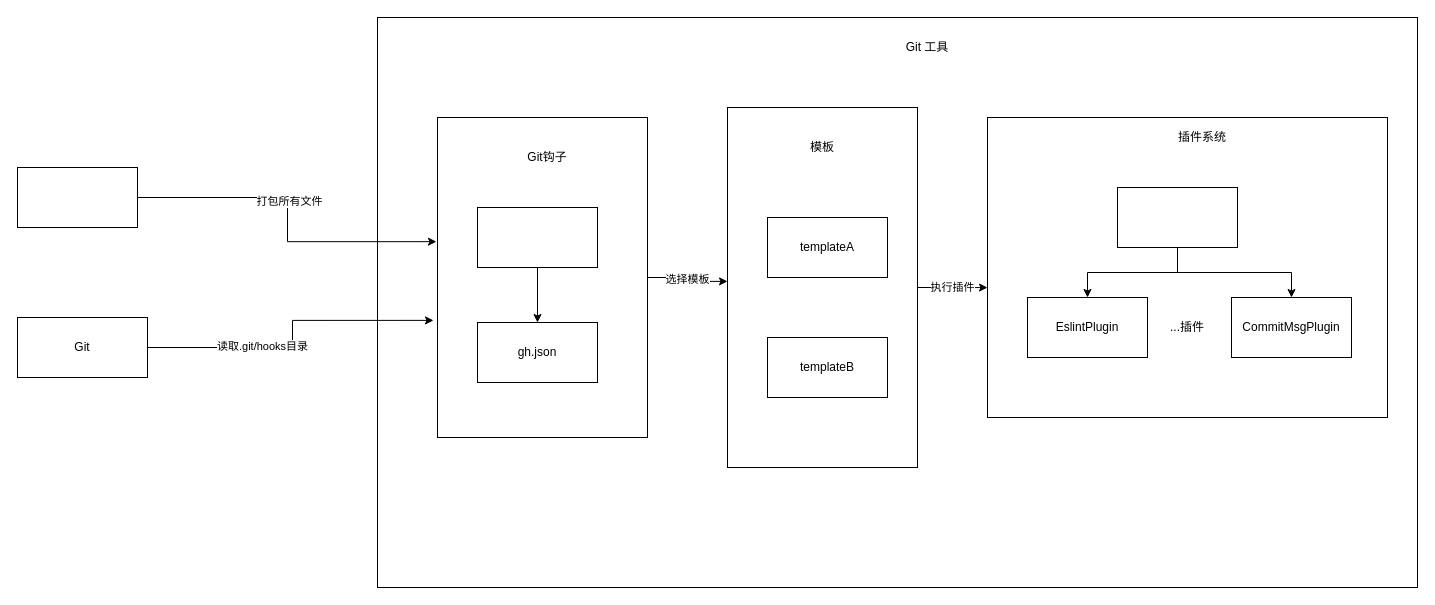
The diagram is 1435 pixels wide and 605 high, and some of its shapes have lost their labels. Each missing label, with the centre of its shape:
"GhCore" goes at (x=1177, y=217).
"pre-commit等" goes at (x=537, y=237).
"vscode插件" goes at (x=77, y=197).
